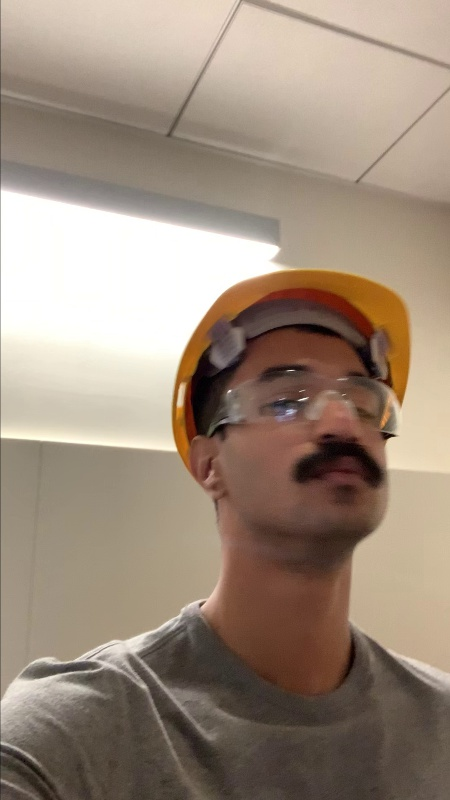glasses: (228, 371, 408, 446)
helmet: (167, 265, 426, 366)
